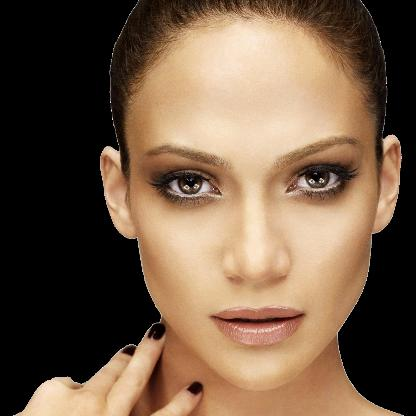Female: (98, 14, 402, 390)
